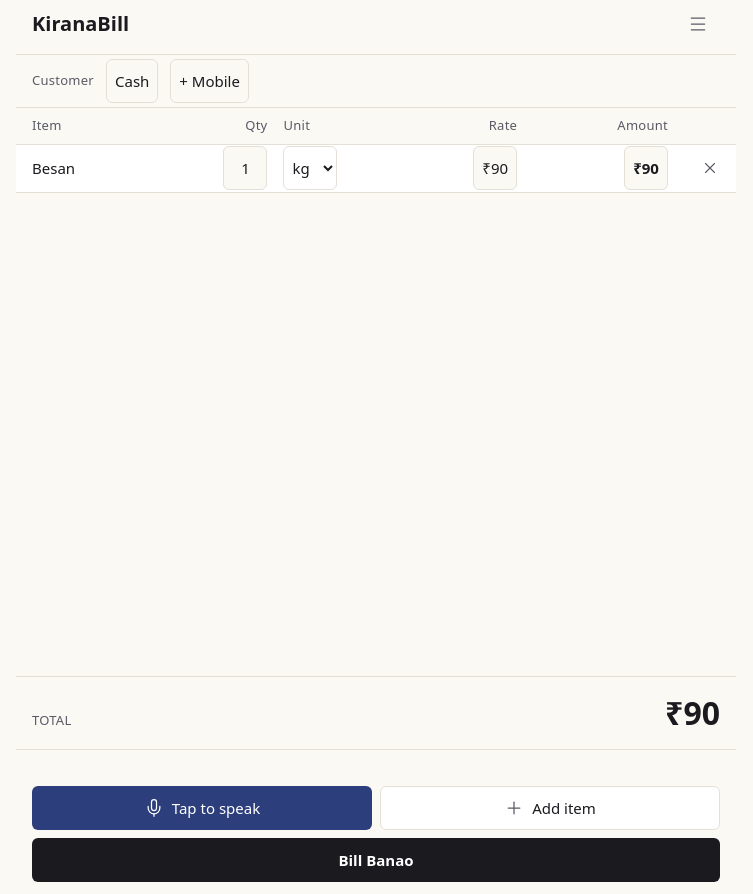
Test: KB-307 - finalise and the saved screen › saves one bill; the screen shows its receipt number, read-only, with New bill
Click the button "Bill Banao". click: (376, 860)
box: [32,838,720,882]
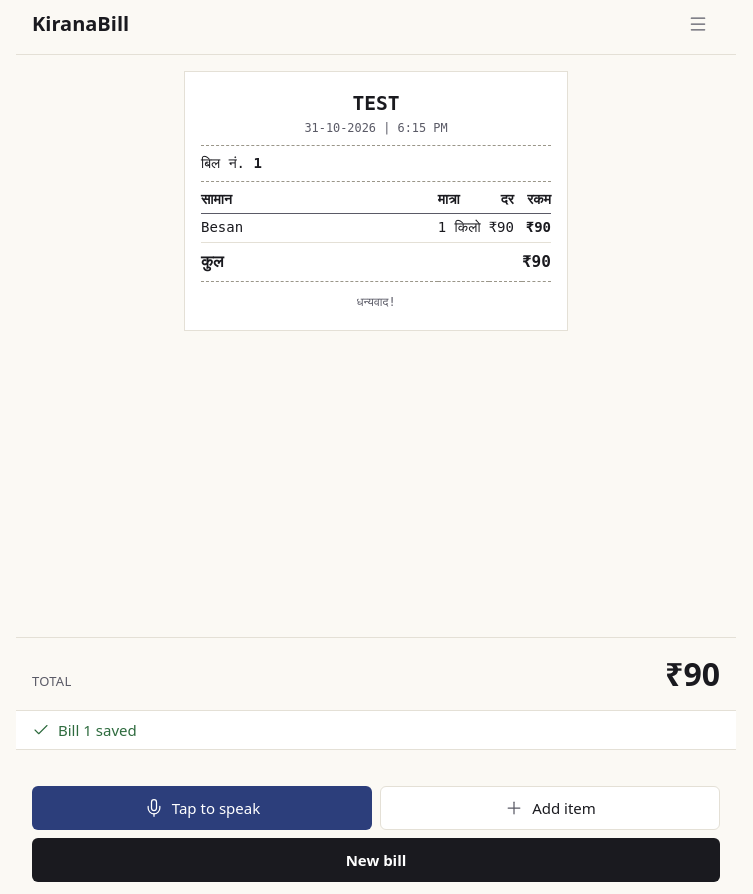
Result: the message named "Bill saved" reads "Bill 1 saved" at [16,710,736,749]
Result: the button "Bill Banao" is gone
Result: the button "New bill" is shown at [32,838,720,882]
